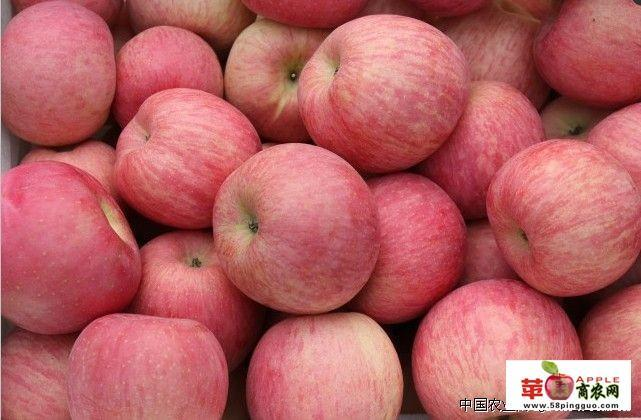apple: (212, 142, 383, 314), (296, 13, 470, 176), (1, 166, 141, 341), (485, 138, 638, 298), (412, 280, 584, 417), (112, 86, 259, 230), (246, 307, 404, 416), (2, 1, 117, 148), (66, 314, 230, 416), (358, 172, 468, 323), (112, 24, 224, 128), (579, 280, 640, 361)
